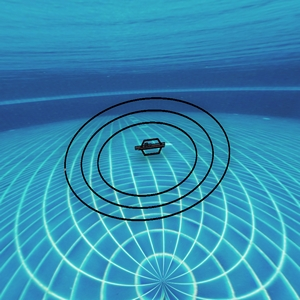circle: (57, 90, 242, 223)
submarine: (137, 139, 169, 157)
